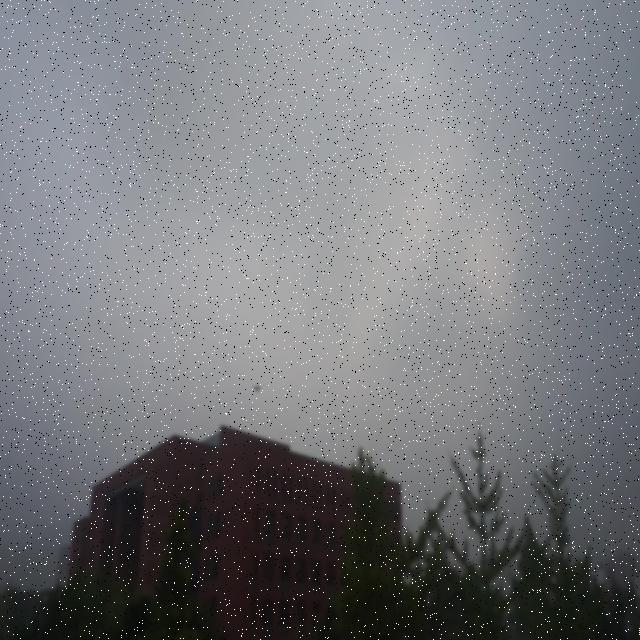UAV: (253, 386, 262, 392)
